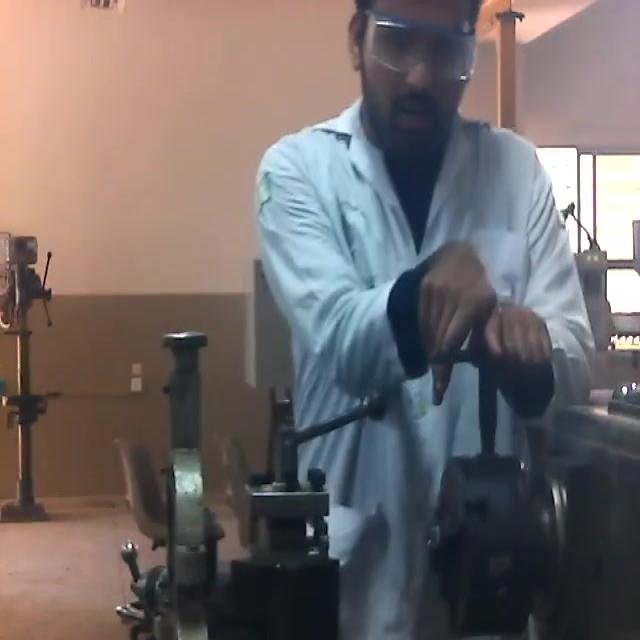googles: (366, 7, 485, 92)
labcoat: (249, 73, 600, 640)
